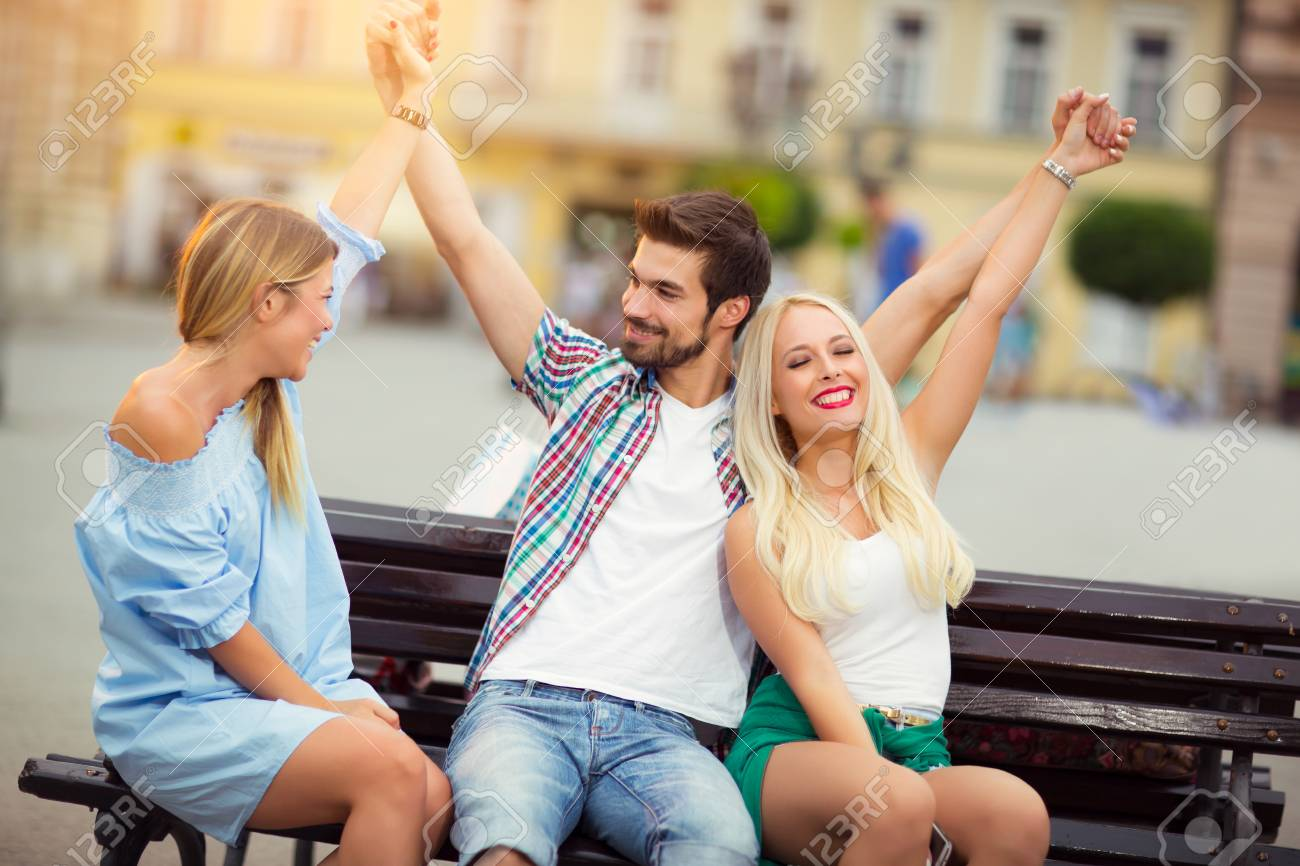bare: (772, 370, 878, 433), (261, 307, 335, 387), (620, 297, 699, 368)
